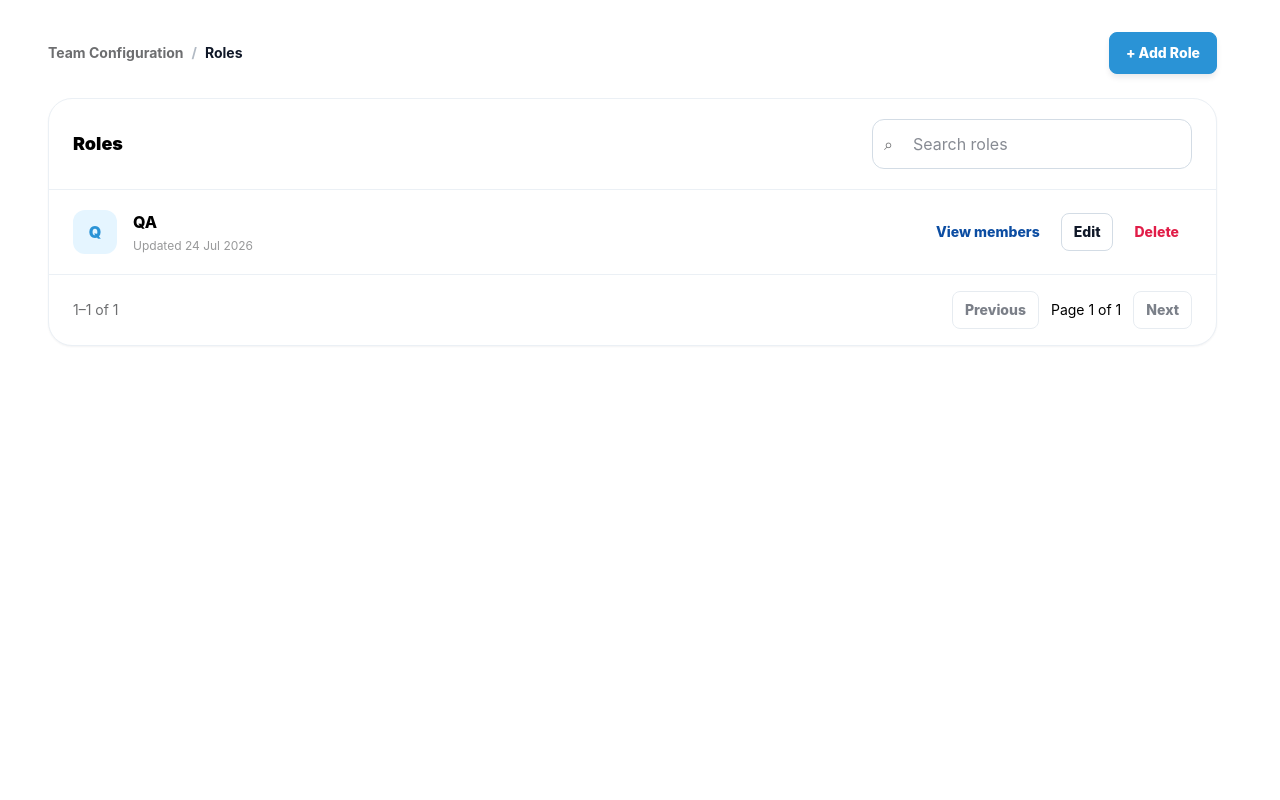
Scenario: RolesDashboardPage › shows an audit empty state when no active member uses the role
Click the button with aria-label "View members using QA" at (988, 232), box [923,213,1053,251]
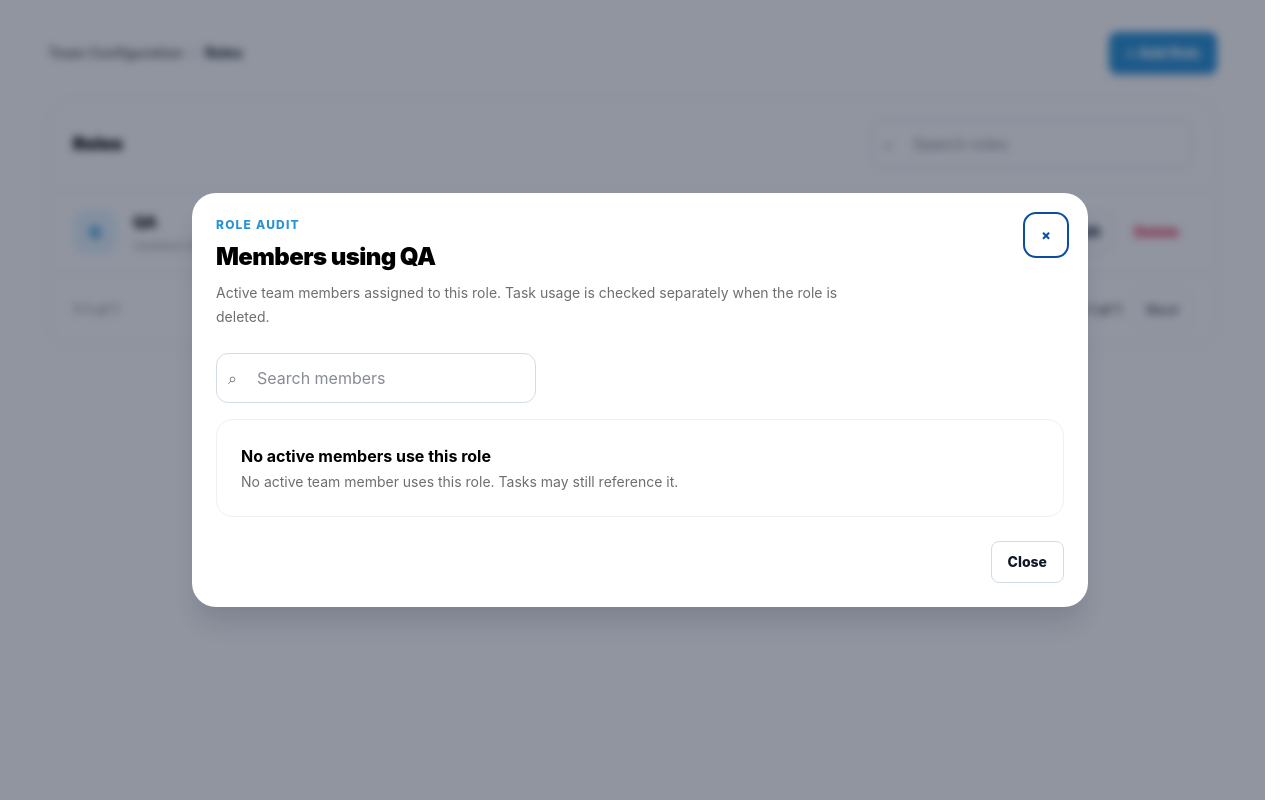
Check: the text "No active members use this role" is shown, box [241,446,491,466]
Check: the text "No active team member uses this role. Tasks may still reference it." is shown, box [241,473,678,490]
